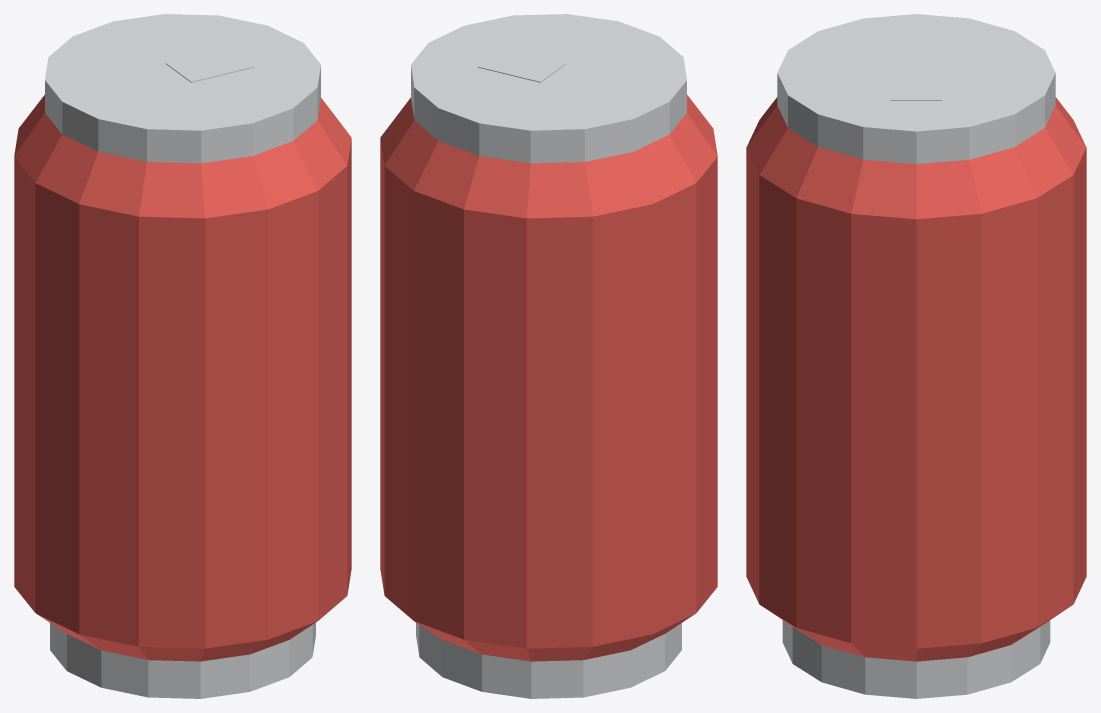
File: soda_can_red.glb
3 renders of one model, left to right at view 1: azimuth 30°, elevation 25°; view 2: azimuth 150°, elevation 25°; view 3: azimuth 270°, elevation 25°, orthographic.
Bounding box in the file's own units: 0.066 × 0.1222 × 0.066.
